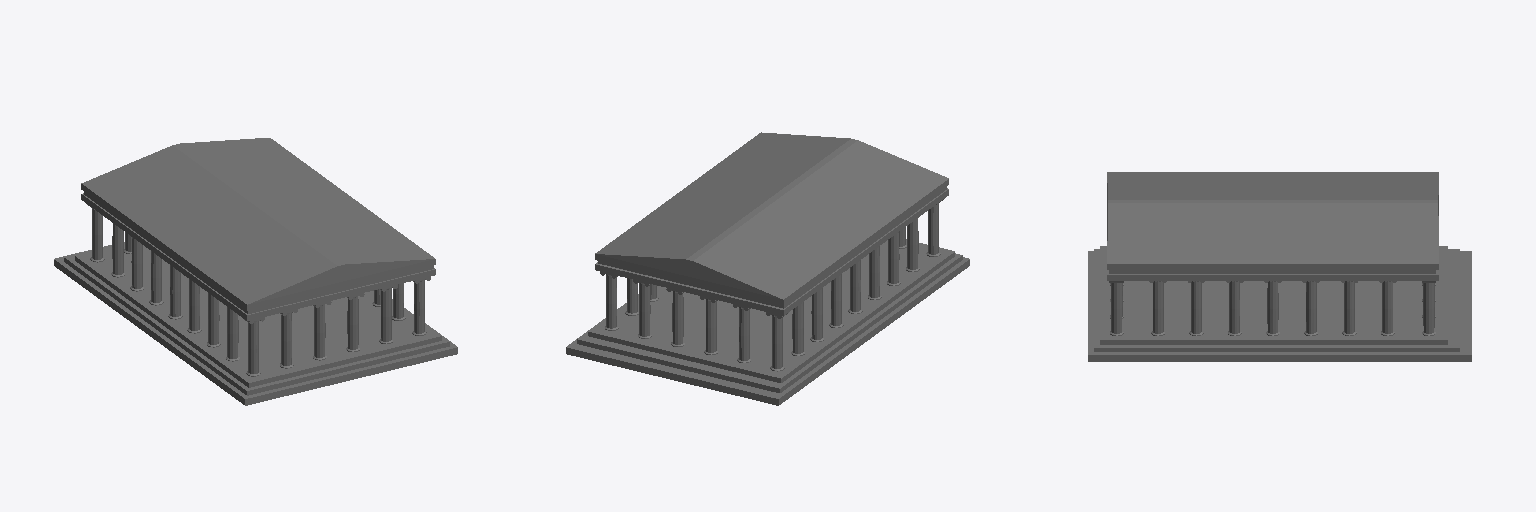
The model's file is temple.obj.
3 views of the same model, side by side, from view 1: azimuth 30°, elevation 25°; view 2: azimuth 150°, elevation 25°; view 3: azimuth 270°, elevation 25° (orthographic).
Visible parts, largest first — view 1: pCube9 polySurface3, polySurface4 pCube8, pCylinder24, pCube8 polySurface6, pCube8 polySurface5, polySurface1 pCube9, pCube9 polySurface2; view 2: pCube9 polySurface3, polySurface4 pCube8, pCylinder24, pCube8 polySurface6, pCube8 polySurface5, polySurface1 pCube9, pCube9 polySurface2; view 3: pCube9 polySurface3, polySurface4 pCube8, pCylinder24, pCube8 polySurface6, pCube8 polySurface5, polySurface1 pCube9, pCube9 polySurface2.
Part boxes in pixels (bbox=[...]): pCube9 polySurface3: bbox=[81, 138, 435, 310]; polySurface4 pCube8: bbox=[75, 244, 441, 387]; pCylinder24: bbox=[87, 204, 430, 376]; pCube8 polySurface6: bbox=[54, 242, 457, 405]; pCube8 polySurface5: bbox=[64, 243, 449, 395]; polySurface1 pCube9: bbox=[81, 193, 435, 320]; pCube9 polySurface2: bbox=[84, 192, 433, 313]; pCube9 polySurface3: bbox=[595, 132, 948, 305]; polySurface4 pCube8: bbox=[588, 239, 954, 382]; pCylinder24: bbox=[600, 199, 943, 371]; pCube8 polySurface6: bbox=[566, 257, 969, 405]; pCube8 polySurface5: bbox=[577, 253, 962, 392]; polySurface1 pCube9: bbox=[595, 188, 948, 315]; pCube9 polySurface2: bbox=[598, 187, 946, 308]; pCube9 polySurface3: bbox=[1107, 172, 1438, 269]; polySurface4 pCube8: bbox=[1100, 246, 1447, 344]; pCylinder24: bbox=[1109, 281, 1435, 335]; pCube8 polySurface6: bbox=[1088, 251, 1471, 361]; pCube8 polySurface5: bbox=[1094, 249, 1459, 351]; polySurface1 pCube9: bbox=[1107, 270, 1438, 280]; pCube9 polySurface2: bbox=[1109, 270, 1435, 273].
Size of the model in its own units: 27.53 by 13.29 by 42.92.